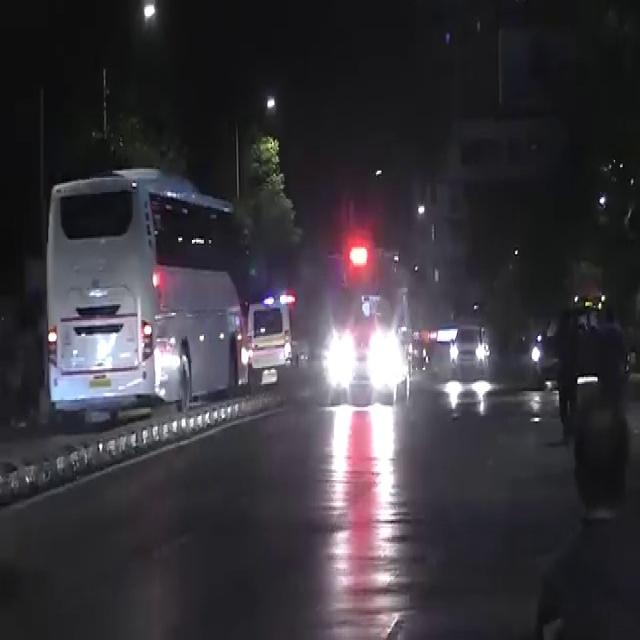ambulance: (313, 246, 427, 402)
